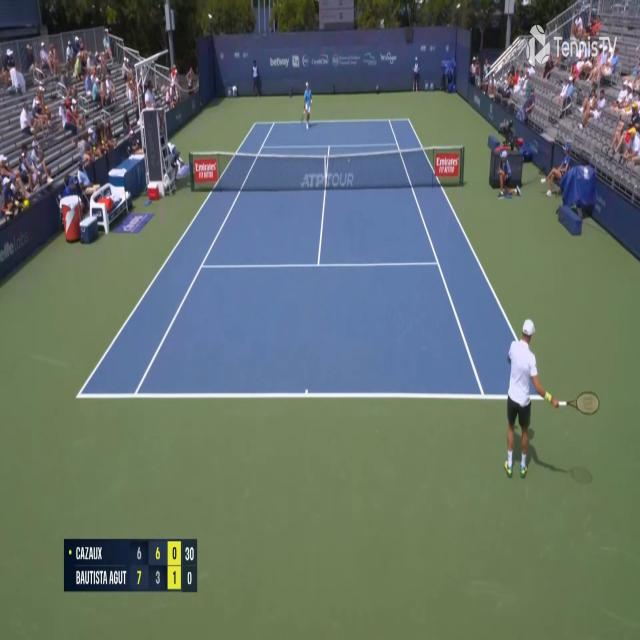tennis-player: (503, 314, 565, 480), (301, 80, 313, 130)
